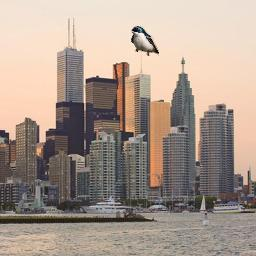Swallow: (131, 26, 159, 56)
